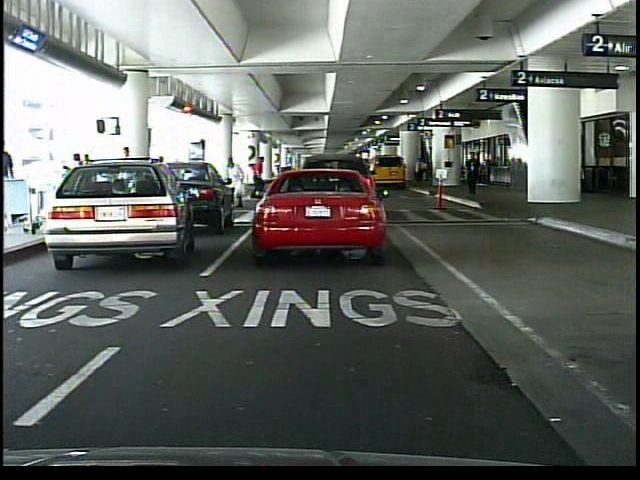person: (0, 140, 22, 226), (120, 145, 137, 218), (465, 152, 483, 197), (232, 157, 247, 210), (251, 153, 266, 197), (414, 155, 427, 190)
